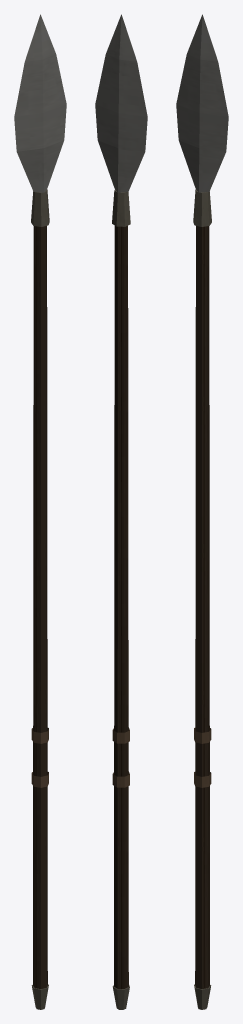
File: wpn_spear_common.glb
The picture shows the model from 3 angles, left to right: view 1: azimuth 30°, elevation 25°; view 2: azimuth 150°, elevation 25°; view 3: azimuth 330°, elevation 25°; orthographic projection.
Visible parts, largest first — view 1: wpn_spear_common; view 2: wpn_spear_common; view 3: wpn_spear_common.
Part boxes in pixels (box(x1,y1,x2,y2)): wpn_spear_common: box(14, 14, 66, 1009); wpn_spear_common: box(95, 14, 147, 1009); wpn_spear_common: box(176, 14, 228, 1009).
Size of the model in its own units: 0.15 by 2.71 by 0.0456.
Materials: 4 (4 with a texture image).
